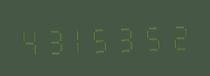five: (92, 20, 116, 55), (142, 18, 166, 53)
four: (17, 23, 41, 58)
one: (67, 21, 91, 56)
three: (42, 22, 66, 57), (117, 19, 141, 54)
two: (167, 17, 191, 52)
